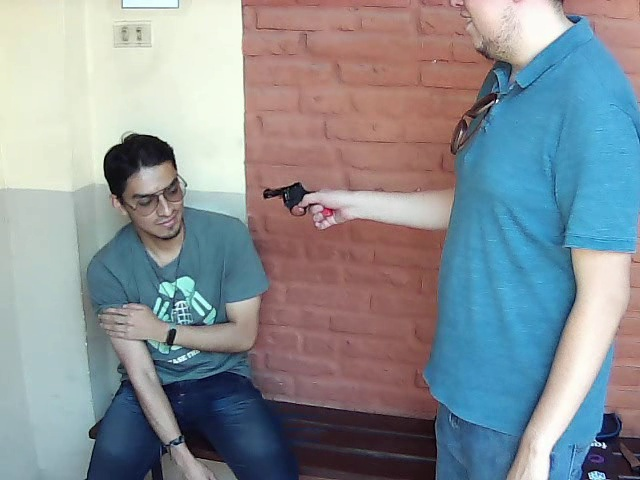pistola: (256, 178, 331, 224)
